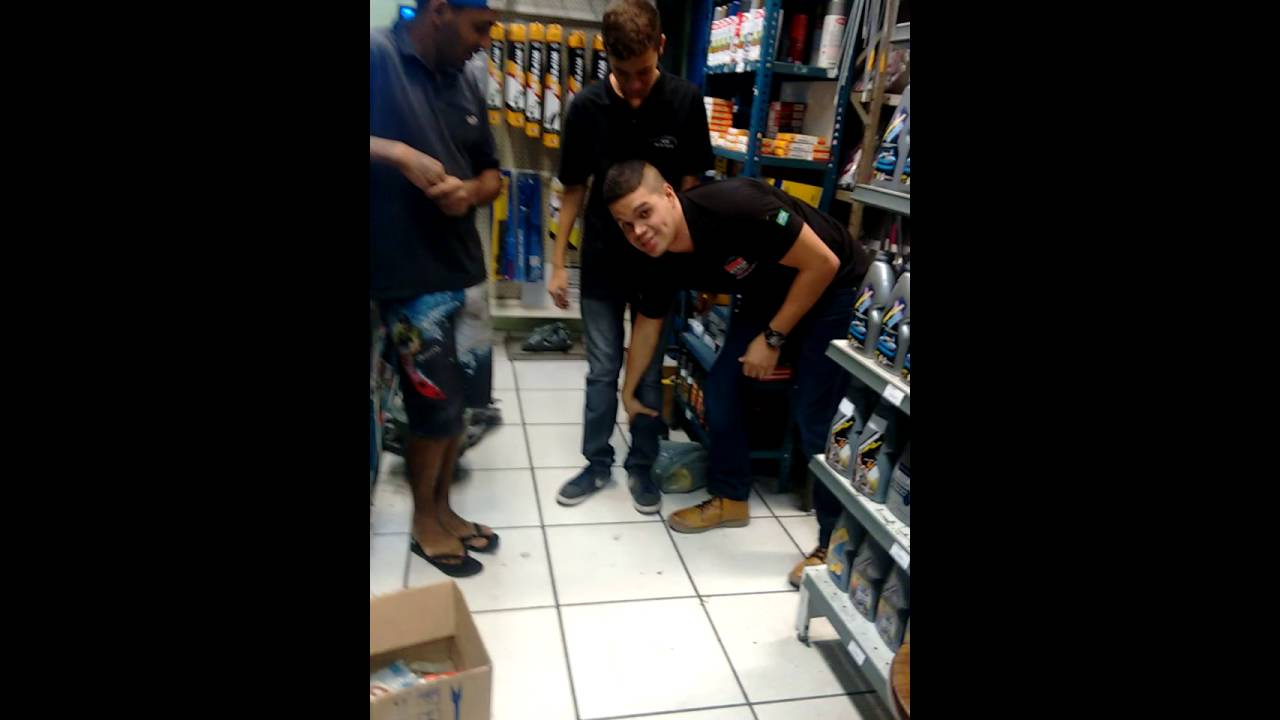Humano: (369, 1, 512, 574), (607, 168, 863, 303), (570, 1, 726, 174)
